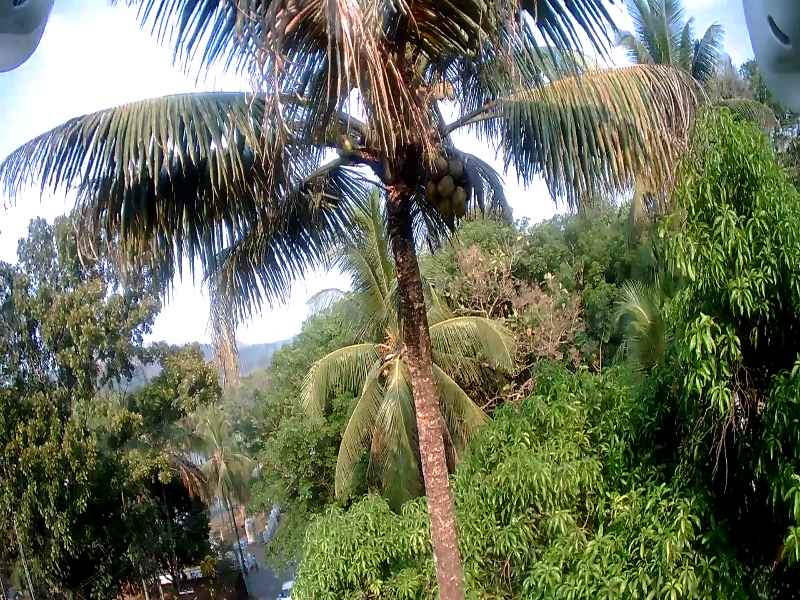coconut: (332, 138, 355, 155), (445, 154, 460, 176), (457, 191, 470, 215), (437, 176, 450, 196), (434, 153, 448, 171), (435, 84, 448, 101), (443, 83, 456, 99), (441, 205, 454, 217)
